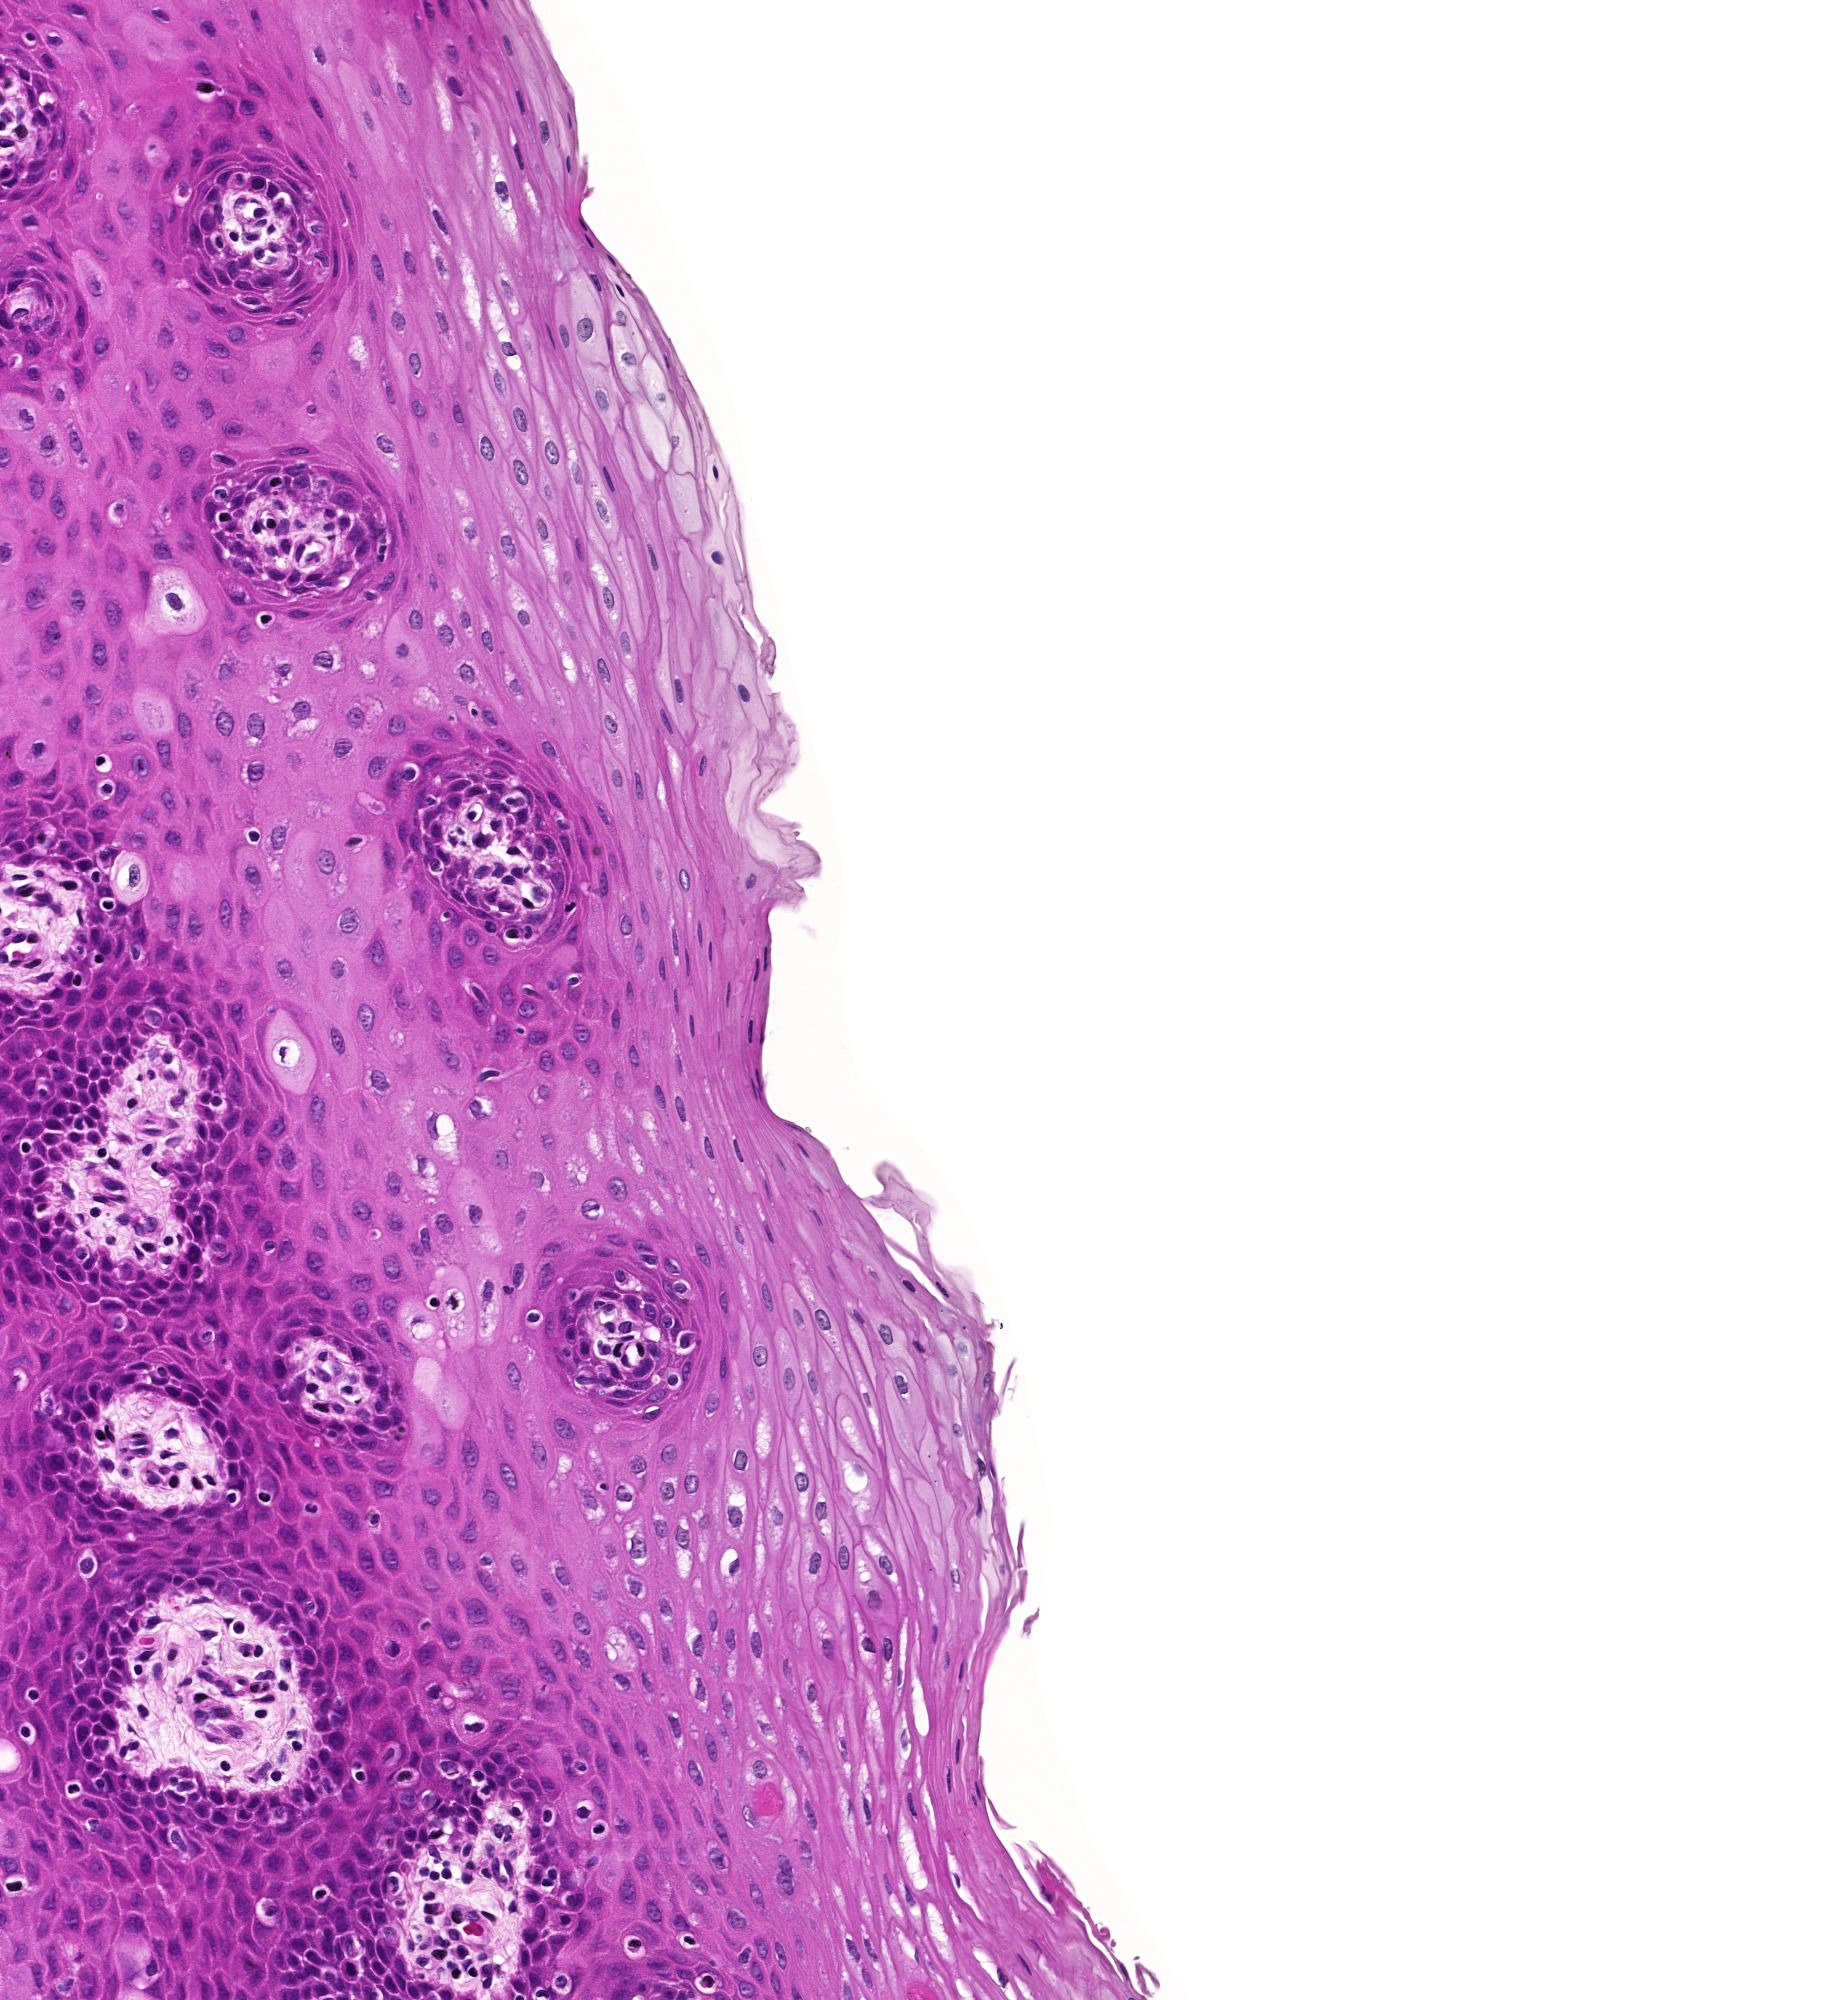epithelial: (106, 1303, 117, 1308), (382, 441, 387, 448), (810, 1557, 815, 1563), (376, 1077, 380, 1084), (450, 51, 453, 56), (500, 186, 504, 192), (164, 336, 167, 341), (584, 328, 587, 333), (52, 632, 56, 638), (145, 1308, 150, 1312), (469, 1451, 472, 1456), (213, 1796, 218, 1800), (253, 721, 256, 725), (746, 692, 747, 699), (277, 1366, 281, 1369), (188, 1399, 192, 1402), (289, 1533, 291, 1538), (247, 1592, 249, 1598), (246, 1855, 247, 1861), (160, 12, 162, 16), (254, 16, 256, 19), (401, 91, 402, 94), (457, 85, 458, 89), (519, 420, 521, 423), (221, 456, 223, 460), (99, 990, 103, 991), (192, 1254, 193, 1258), (345, 1584, 348, 1585), (110, 1765, 112, 1768), (117, 1866, 118, 1869), (887, 1646, 889, 1650), (321, 1754, 322, 1758), (437, 220, 439, 221), (457, 415, 458, 416), (486, 449, 488, 451), (342, 498, 343, 500), (601, 887, 603, 889), (333, 969, 335, 970), (680, 1108, 681, 1110), (751, 878, 753, 880), (153, 1585, 155, 1587), (218, 1819, 220, 1821), (361, 1916, 362, 1918), (910, 1801, 911, 1803), (957, 1747, 958, 1749), (948, 1777, 950, 1779), (782, 1883, 784, 1885), (1023, 1960, 1025, 1962), (699, 1882, 700, 1883)
fibroblast and endothelial: (261, 1699, 267, 1702), (108, 1181, 112, 1186), (120, 1749, 124, 1753), (479, 869, 483, 873), (484, 1915, 490, 1916), (132, 1742, 134, 1746), (451, 1936, 455, 1937), (204, 1632, 207, 1634), (178, 1465, 181, 1467), (606, 1307, 610, 1308), (98, 1199, 101, 1200), (68, 883, 70, 887), (511, 848, 514, 850), (516, 869, 517, 873), (298, 549, 300, 552), (254, 526, 256, 530), (200, 1718, 202, 1720), (507, 1866, 509, 1868), (17, 936, 19, 937), (507, 880, 509, 882), (286, 544, 287, 545), (3, 143, 5, 145)
inflammatory: (707, 1977, 709, 1981), (237, 1627, 239, 1629), (71, 1787, 73, 1789), (294, 1746, 296, 1747), (350, 1969, 352, 1970), (566, 1918, 568, 1920), (124, 1470, 125, 1472)
lymphocyte: (221, 516, 225, 519), (531, 1315, 535, 1319), (105, 904, 110, 906), (260, 1495, 265, 1497), (204, 85, 206, 89), (96, 958, 99, 960), (77, 977, 78, 981), (486, 1073, 490, 1075), (31, 1692, 35, 1693), (477, 1775, 479, 1779), (28, 37, 30, 38), (233, 235, 235, 237), (258, 211, 260, 213), (272, 481, 274, 483), (263, 618, 265, 620), (24, 1146, 26, 1148), (94, 1213, 96, 1214), (99, 1434, 101, 1436), (310, 1389, 312, 1390), (172, 1481, 174, 1483), (230, 1497, 232, 1498), (23, 1732, 24, 1733), (357, 1775, 359, 1777), (547, 1814, 549, 1815), (402, 1774, 404, 1775), (472, 1972, 474, 1974), (545, 1882, 547, 1883), (688, 1939, 690, 1941), (632, 1943, 634, 1944), (105, 786, 106, 787)
